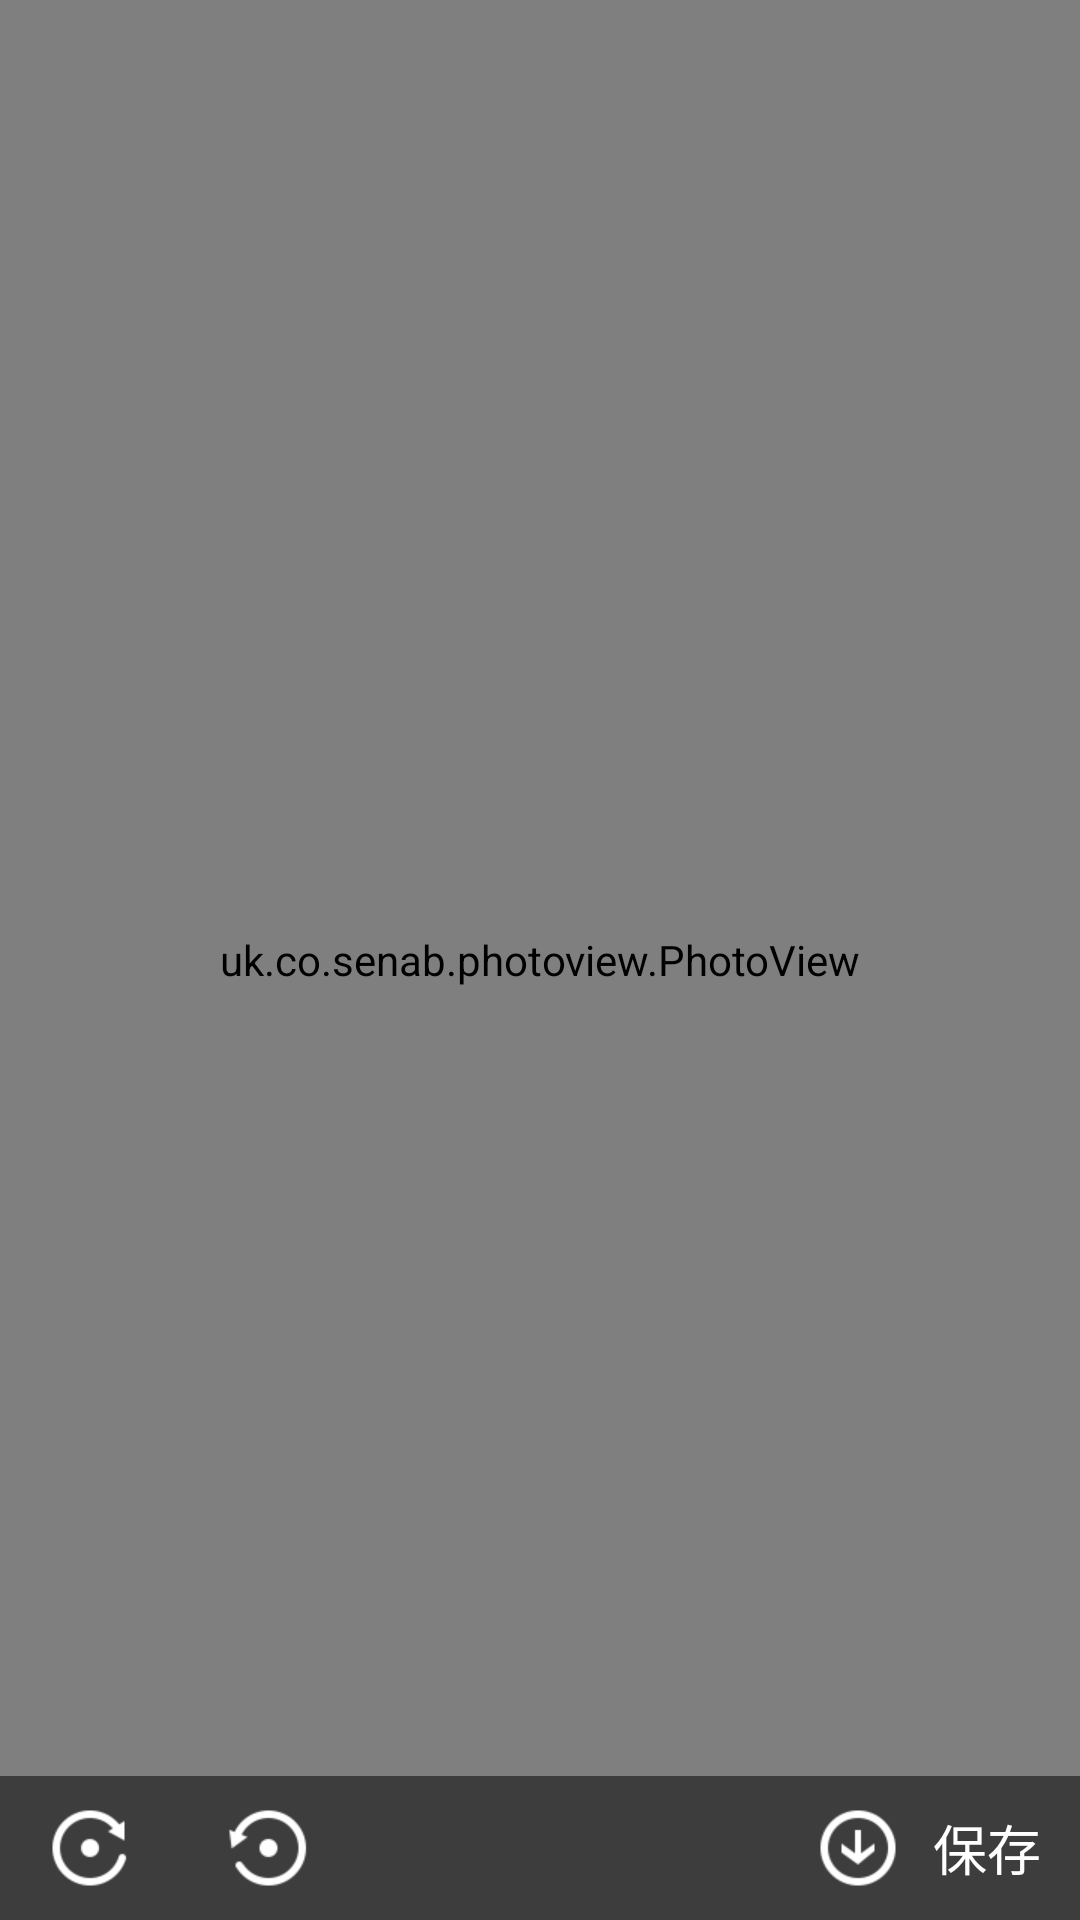

Icon bounding boxes for this 1080 × 1920 phone screenshot, format box(x1, y1, x2, y2):
gallery anticlockwise: box(229, 1810, 307, 1886)
gallery clockwise: box(52, 1810, 127, 1886)
